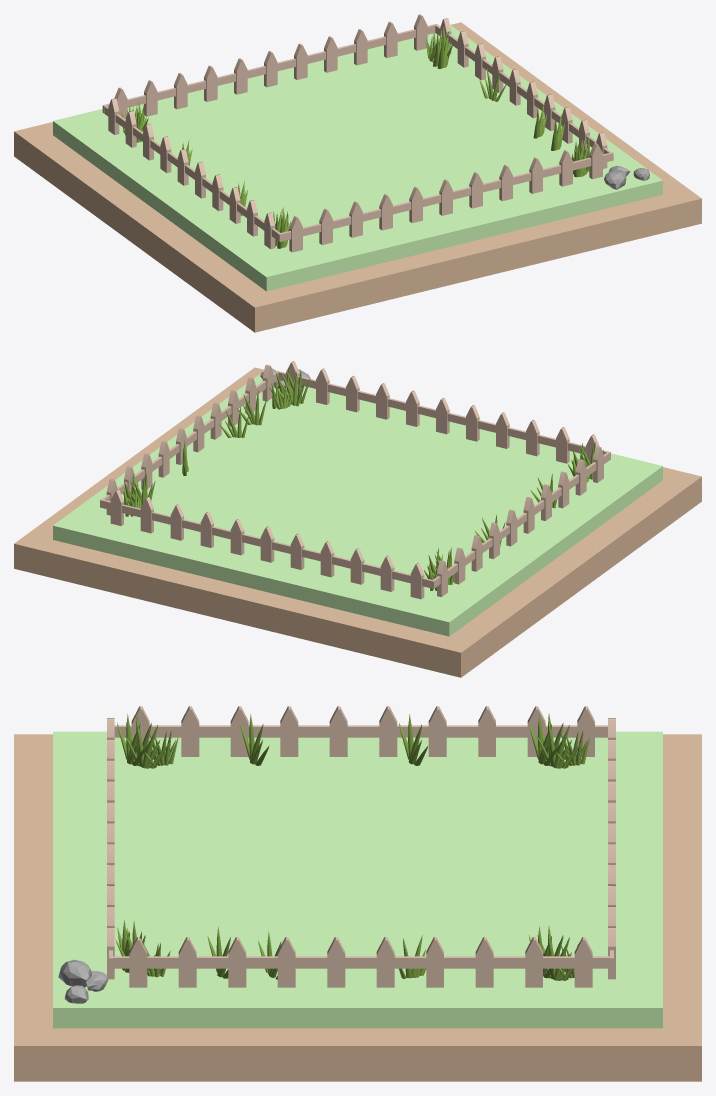
Rendered from garden test.fbx.
3 renders of one model, top to bottom at view 1: azimuth 30°, elevation 25°; view 2: azimuth 150°, elevation 25°; view 3: azimuth 270°, elevation 25°, orthographic. The views are drawn at different scales.
Visible parts, largest first — view 1: pCube4, pCube1; view 2: pCube4, pCube1; view 3: pCube4, pCube1, pasted__pCube36 (×2), pasted__pCube41 (×2), pasted__pCube29 (×2), pasted__pCube39 (×2), pasted__pCube31 (×2), pCube8 (×2), pasted__pCube40 (×2), pasted__pCube46 (×2), pCylinder30 (×2), pasted__pCube34 (+4 smaller).
Part boxes in pixels (x1=…): pCube4: x1=53, y1=25, x2=662, y2=291; pCube1: x1=14, y1=22, x2=701, y2=332; pCube4: x1=53, y1=371, x2=662, y2=636; pCube1: x1=14, y1=367, x2=701, y2=677; pCube4: x1=53, y1=731, x2=662, y2=1028; pCube1: x1=14, y1=734, x2=701, y2=1081; pasted__pCube36 (×2): x1=178, y1=706, x2=199, y2=987; pasted__pCube41 (×2): x1=277, y1=706, x2=298, y2=987; pasted__pCube29 (×2): x1=327, y1=706, x2=347, y2=987; pasted__pCube39 (×2): x1=376, y1=706, x2=397, y2=987; pasted__pCube31 (×2): x1=426, y1=706, x2=446, y2=987; pCube8 (×2): x1=475, y1=706, x2=495, y2=987; pasted__pCube40 (×2): x1=228, y1=706, x2=248, y2=987; pasted__pCube46 (×2): x1=574, y1=706, x2=594, y2=987; pCylinder30 (×2): x1=124, y1=721, x2=581, y2=768; pasted__pCube34: x1=129, y1=937, x2=147, y2=987.
Bounding box in the file's own units: 22.35 × 3.47 × 20.85.
